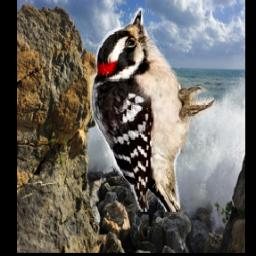Woodpecker: (91, 8, 215, 212)
